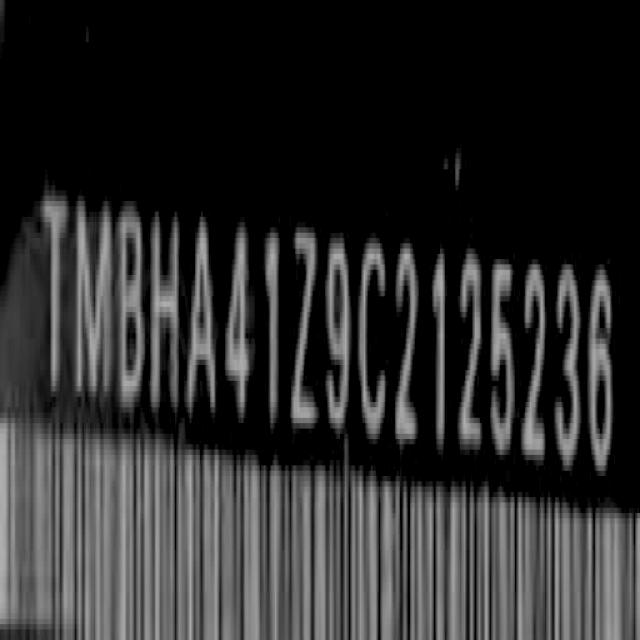1: (262, 216, 281, 437), (433, 244, 449, 462)
2: (396, 236, 422, 462), (523, 254, 549, 475), (458, 246, 482, 472)
3: (554, 256, 580, 481)
4: (226, 222, 252, 438)
5: (492, 244, 518, 469)
6: (592, 261, 618, 484)
9: (326, 225, 350, 448)
A: (189, 212, 220, 430)
B: (116, 206, 146, 409)
C: (359, 233, 388, 453)
H: (152, 202, 182, 424)
M: (76, 193, 114, 414)
T: (45, 193, 68, 418)
Z: (294, 224, 320, 448)
